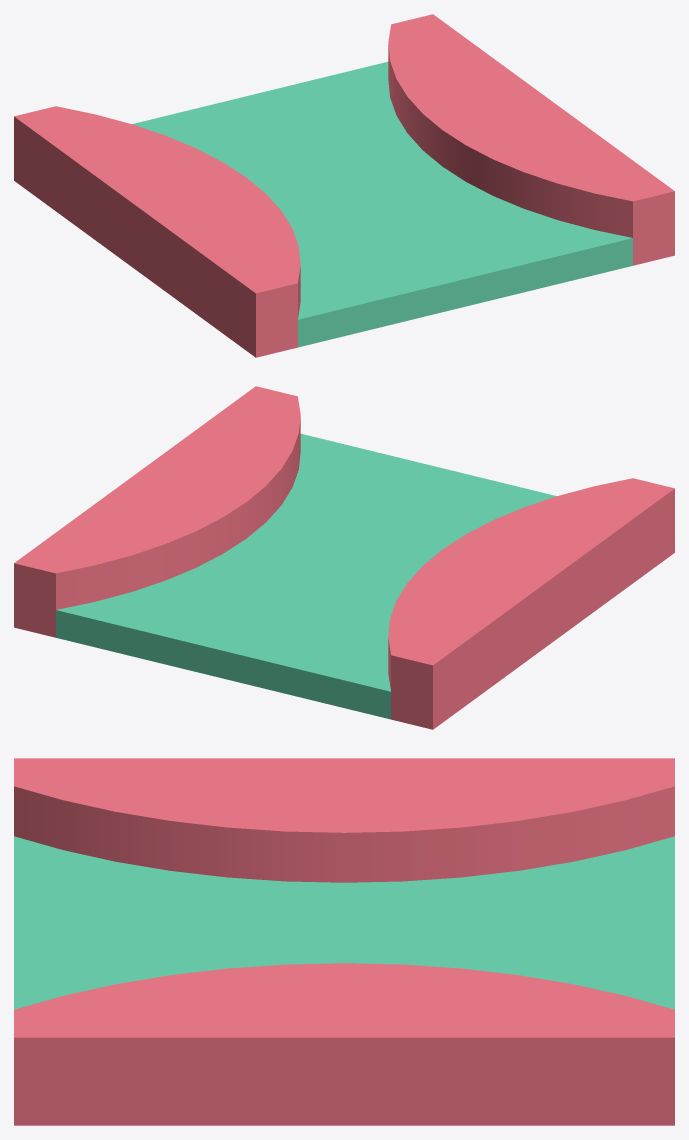
The model's file is narrowRound.glb.
3 views of the same model, one above another, from view 1: azimuth 30°, elevation 25°; view 2: azimuth 150°, elevation 25°; view 3: azimuth 270°, elevation 25° (orthographic). The views are drawn at different scales.
Parts seen in each view (by area): view 1: narrowRound; view 2: narrowRound; view 3: narrowRound.
Part boxes in pixels (x1=…): narrowRound: x1=14, y1=14, x2=674, y2=357; narrowRound: x1=14, y1=386, x2=674, y2=729; narrowRound: x1=14, y1=758, x2=674, y2=1125.
Size of the model in its own units: 0.9999 by 0.1467 by 0.9999.
